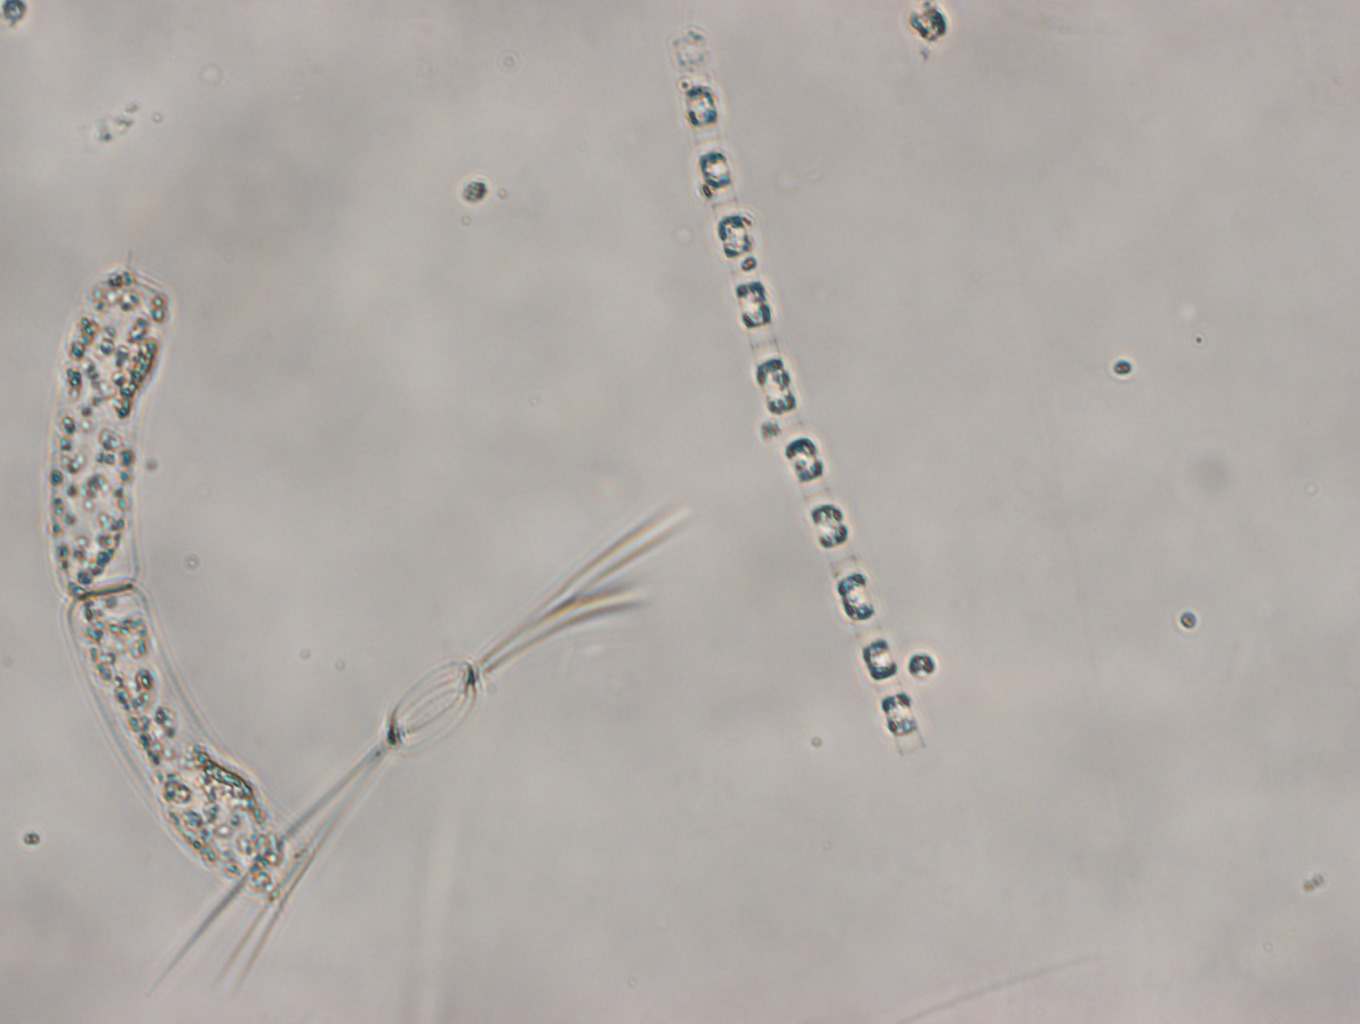chaetoceros: (151, 499, 689, 1000)
skeletonema: (671, 27, 926, 758)
